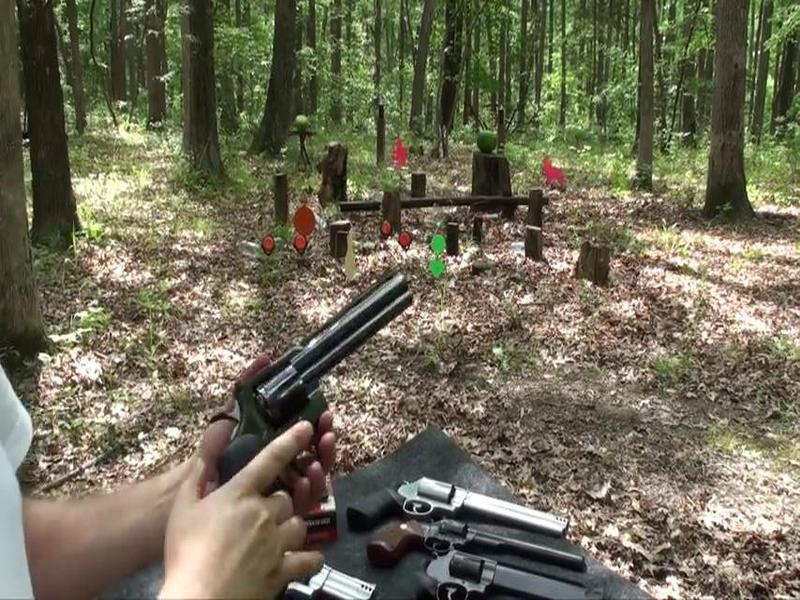Revolver: (227, 272, 415, 491)
